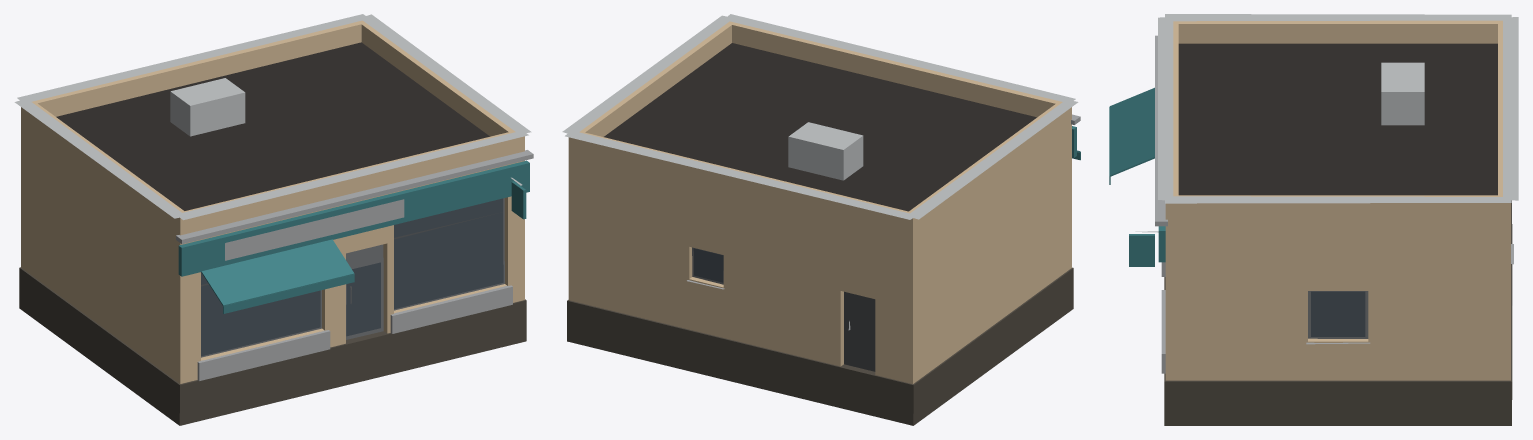
Rendered from shop-small-lod1.glb.
3 views of the same model, side by side, from view 1: azimuth 30°, elevation 25°; view 2: azimuth 150°, elevation 25°; view 3: azimuth 270°, elevation 25° (orthographic). The views are drawn at different scales.
Visible parts, largest first — view 1: shop-small-plaster0.001; view 2: shop-small-plaster0.001; view 3: shop-small-plaster0.001.
Part boxes in pixels (x1,y1,x2,y2): shop-small-plaster0.001: (14, 14, 533, 425); shop-small-plaster0.001: (562, 14, 1080, 425); shop-small-plaster0.001: (1109, 14, 1518, 425).
Bounding box in the file's own units: 10.36 × 6.09 × 9.48.
